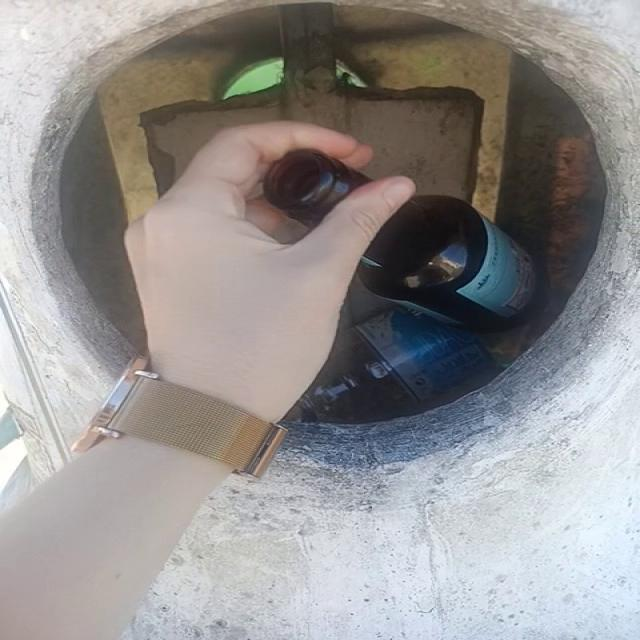glass: (359, 196, 535, 330), (264, 150, 369, 226)
